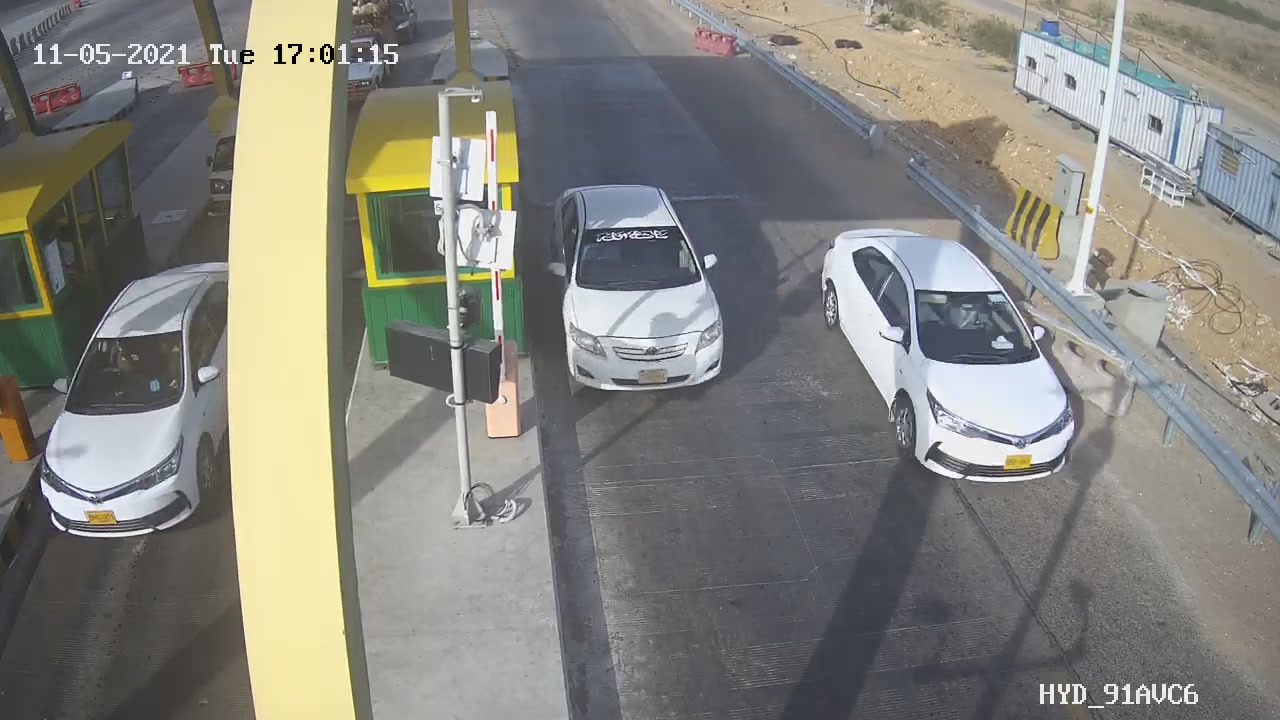F1: (804, 204, 1113, 516), (533, 165, 746, 416)
